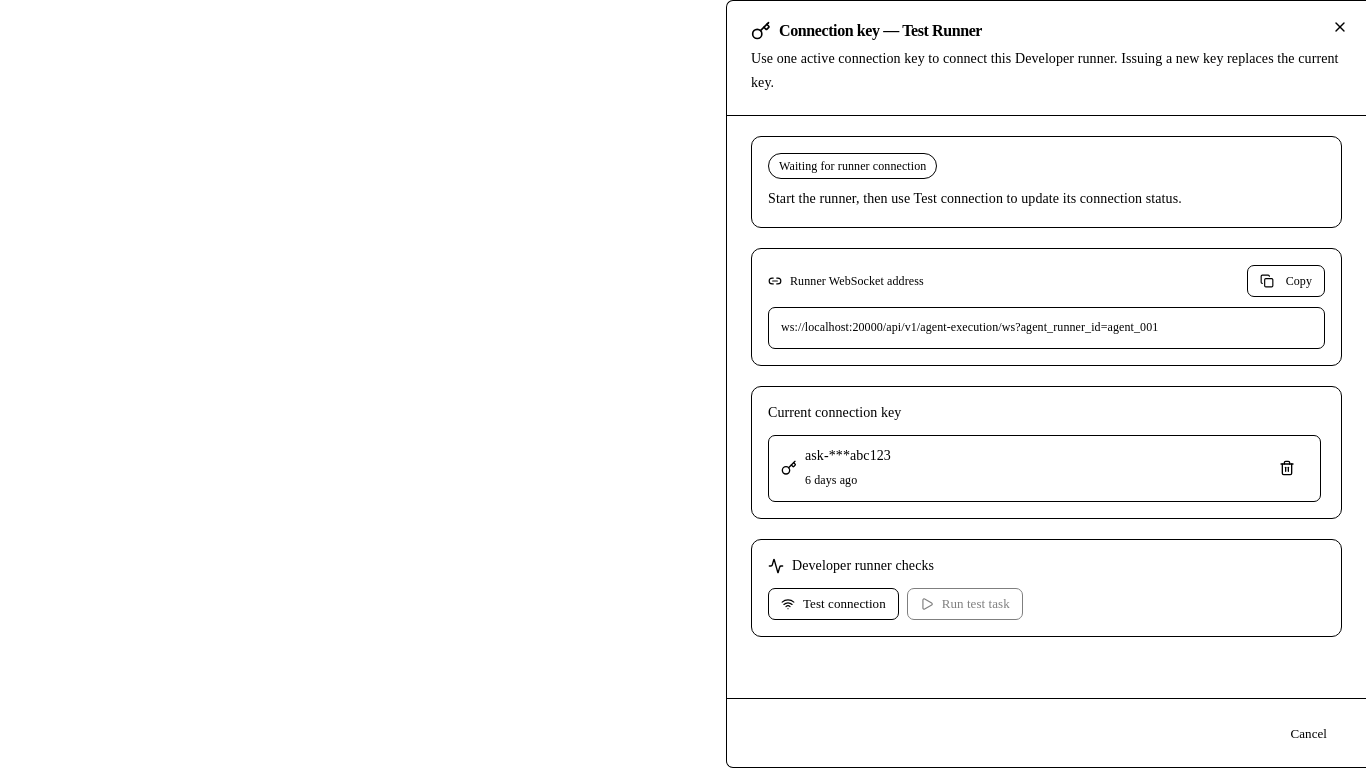
Scenario: AgentRunnerKeysDialog › Key Revocation › clears connected status and disables Run test task after revoking a key
Click the button "Test connection": (833, 604) x1=768 y1=588 x2=899 y2=620
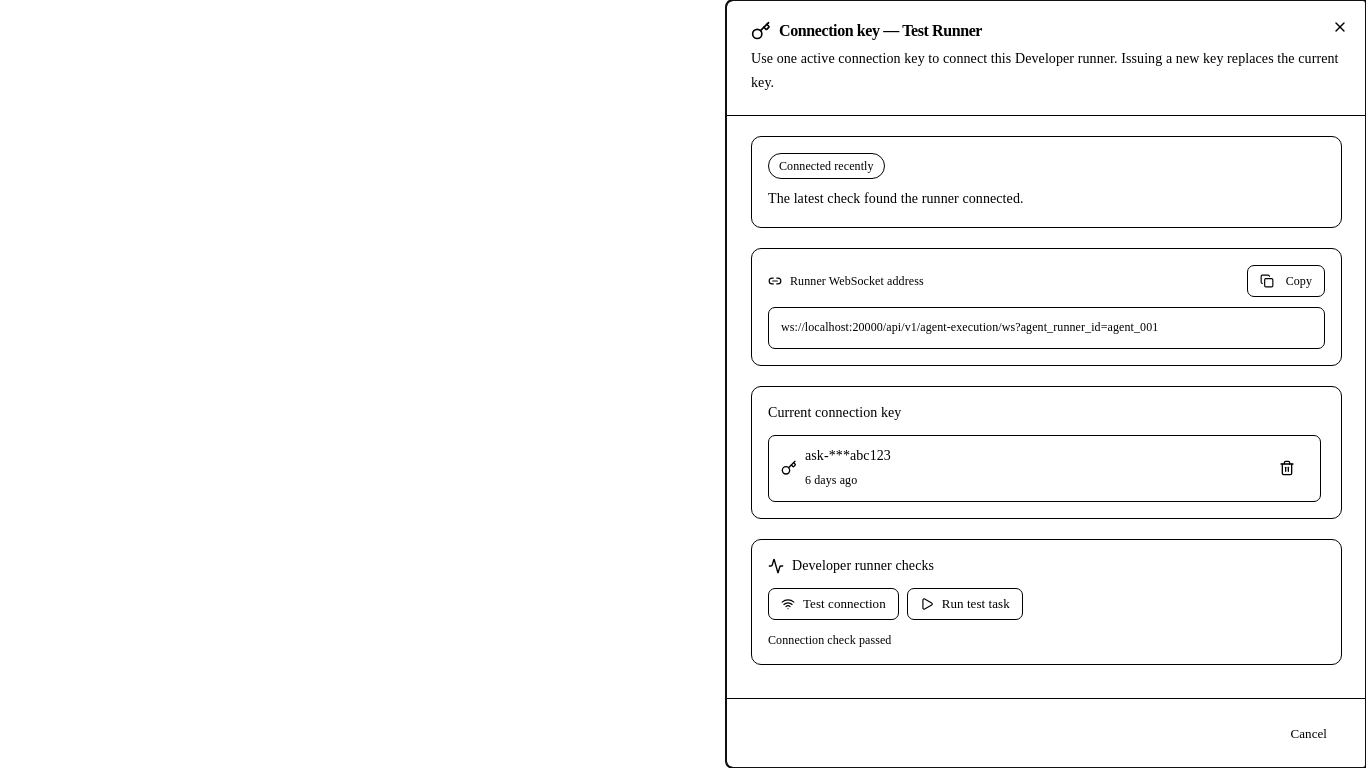
Expected: the button "Run test task" is enabled, x1=907 y1=588 x2=1023 y2=620
Expected: the text "Connection check passed" is shown, x1=768 y1=633 x2=891 y2=647
Click the button with test id "agent-runners__connection-keys-revoke--agent_key_001": (1287, 468) x1=1266 y1=452 x2=1308 y2=484
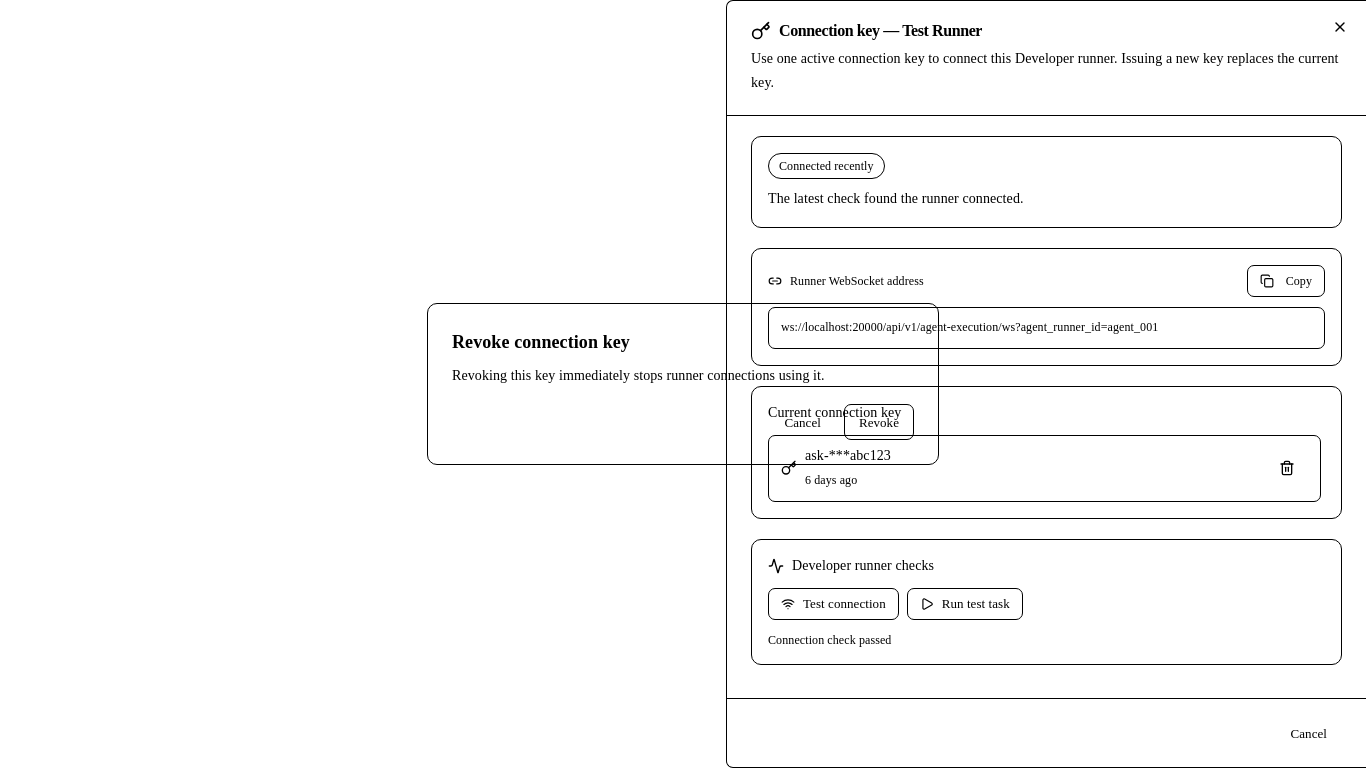
Click the button "Revoke": (879, 422) x1=844 y1=404 x2=914 y2=440
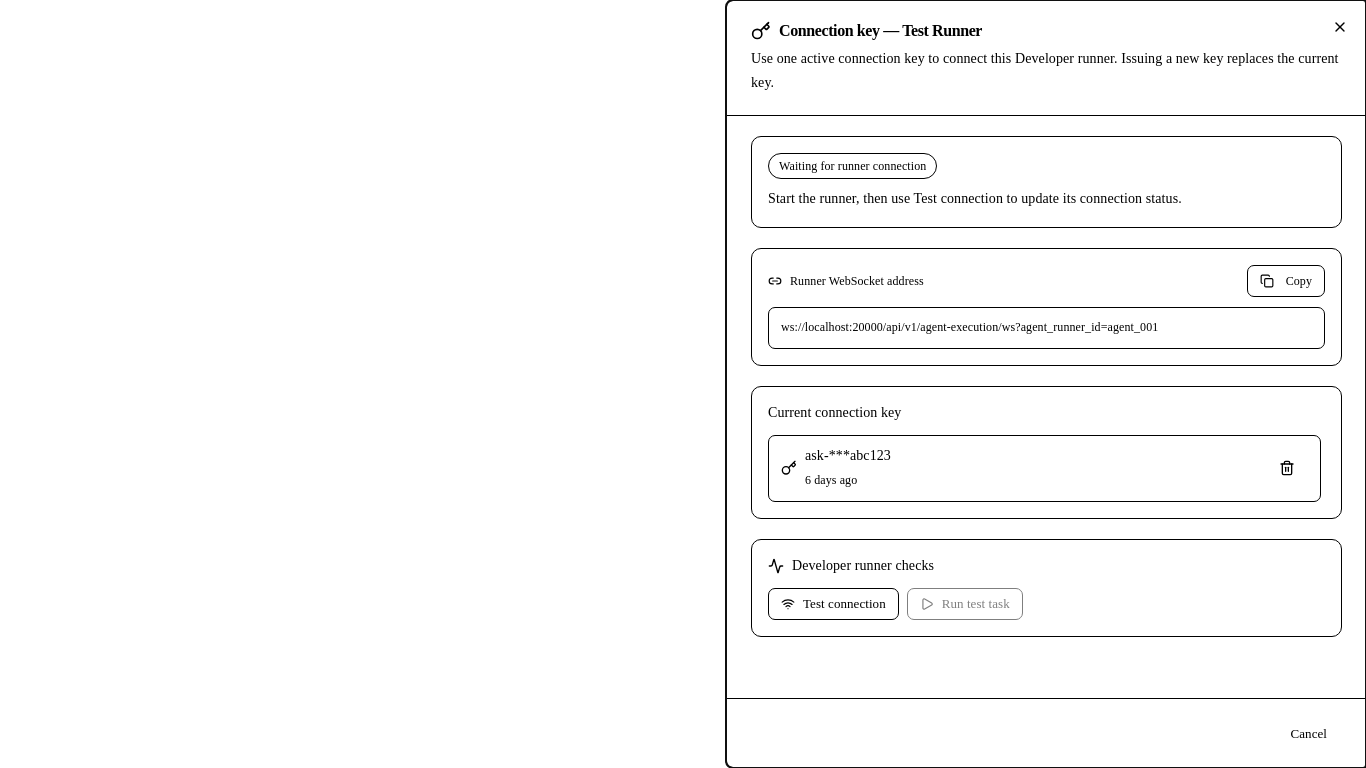
Expected: the button "Run test task" is disabled, x1=907 y1=588 x2=1023 y2=620
Expected: the text "Connection check passed" is gone
